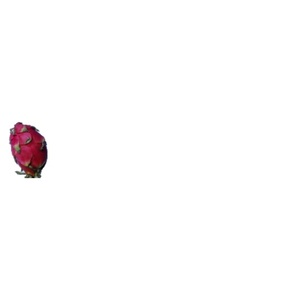pitaia: (10, 122, 48, 179)
